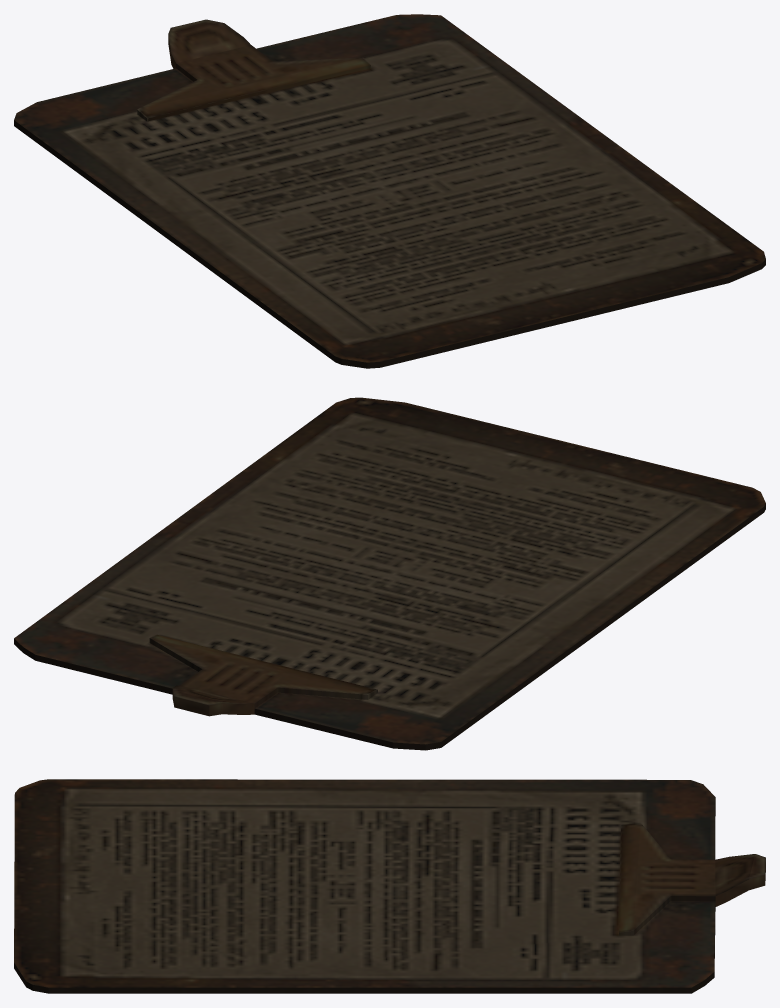
Rendered from clipboard_mx_1.obj.
3 views of the same model, one above another, from view 1: azimuth 30°, elevation 25°; view 2: azimuth 150°, elevation 25°; view 3: azimuth 270°, elevation 25° (orthographic).
Visible parts, largest first — view 1: clipboard_mx_1; view 2: clipboard_mx_1; view 3: clipboard_mx_1.
Part boxes in pixels (left/top/right/bottom): clipboard_mx_1: left=14, top=14, right=765, bottom=368; clipboard_mx_1: left=14, top=397, right=765, bottom=750; clipboard_mx_1: left=14, top=779, right=765, bottom=993.
Size of the model in its own units: 0.2244 by 0.0115 by 0.3423.
